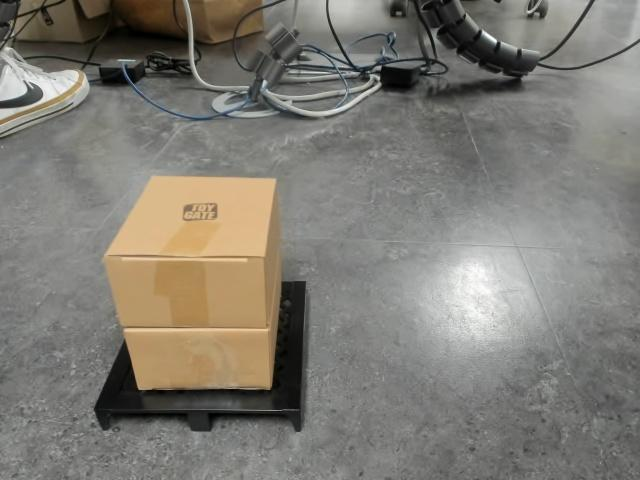box: (91, 175, 311, 435)
